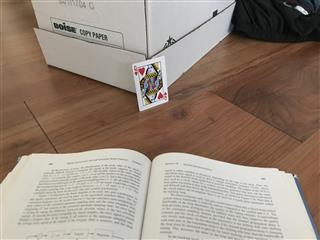QueenOfHearts: (131, 55, 168, 111)
